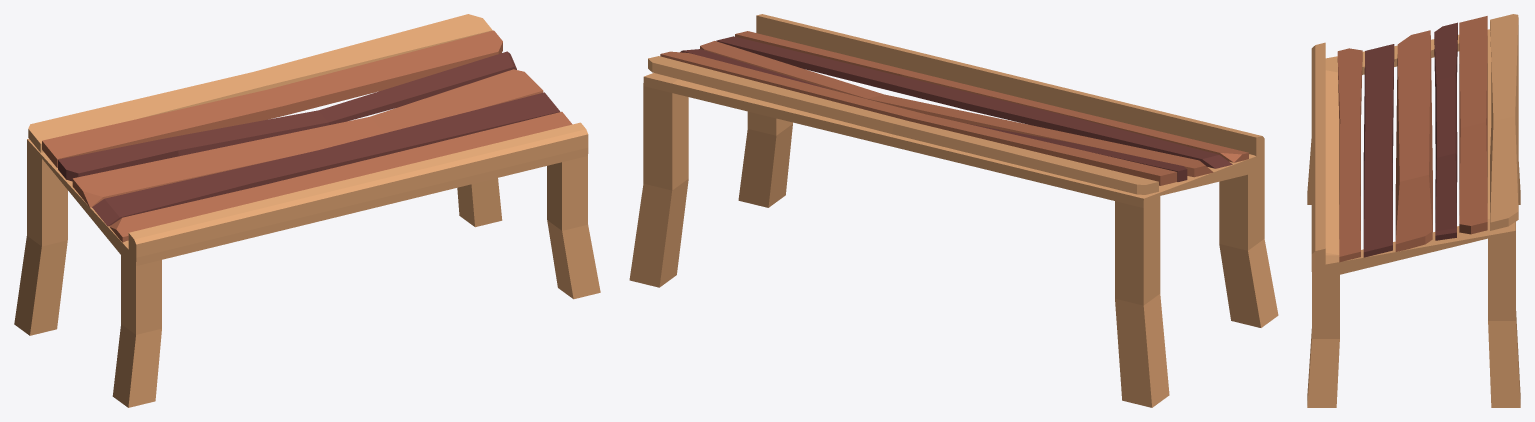
File: Sellers Table 01.fbx
The picture shows the model from 3 angles, left to right: view 1: azimuth 30°, elevation 25°; view 2: azimuth 150°, elevation 25°; view 3: azimuth 270°, elevation 25°; orthographic projection. The views are drawn at different scales.
Visible parts, largest first — view 1: Sellers Table 01; view 2: Sellers Table 01; view 3: Sellers Table 01.
Boxes of the visible parts, x1,y1,x2,y2 form: Sellers Table 01: (14,14,600,407); Sellers Table 01: (629,14,1278,407); Sellers Table 01: (1307,14,1520,407).
Bounding box in the file's own units: 250 × 102 × 105.
